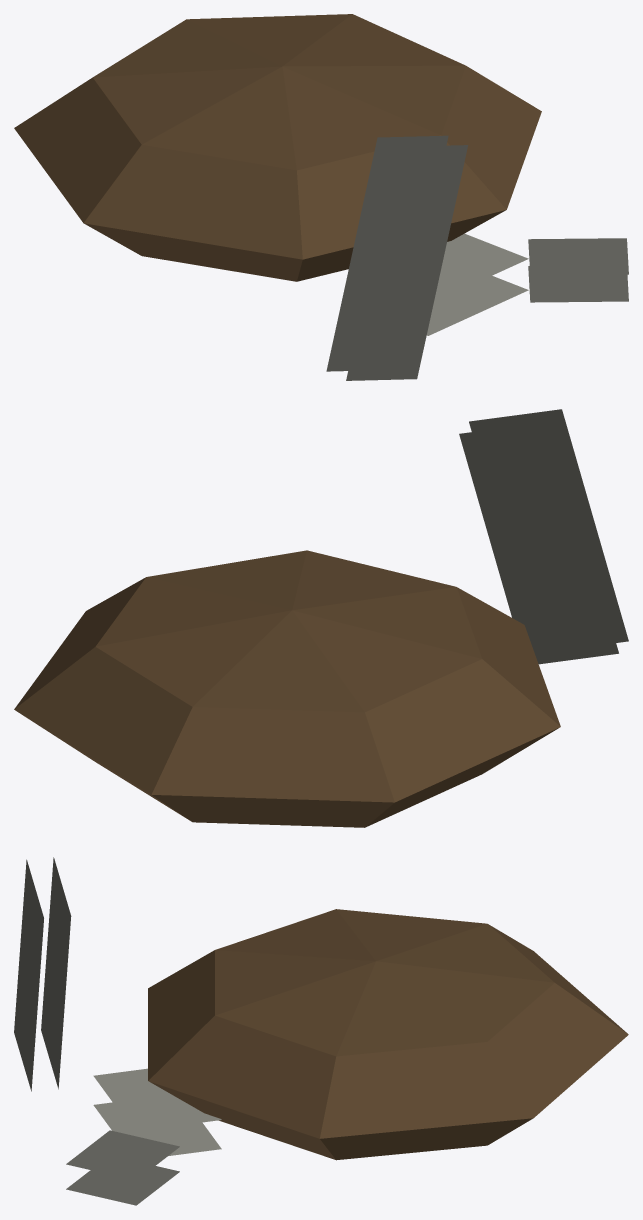
The model's file is prop_tomb_old_lod1.glb.
3 views of the same model, one above another, from view 1: azimuth 30°, elevation 25°; view 2: azimuth 150°, elevation 25°; view 3: azimuth 270°, elevation 25° (orthographic). The views are drawn at different scales.
Visible parts, largest first — view 1: prop_tomb_old_lod1; view 2: prop_tomb_old_lod1; view 3: prop_tomb_old_lod1.
Boxes of the visible parts, left/top/right/bottom form: prop_tomb_old_lod1: left=14, top=14, right=628, bottom=380; prop_tomb_old_lod1: left=14, top=409, right=628, bottom=827; prop_tomb_old_lod1: left=14, top=857, right=628, bottom=1205.
Size of the model in its own units: 2.14 by 1.07 by 2.67.
